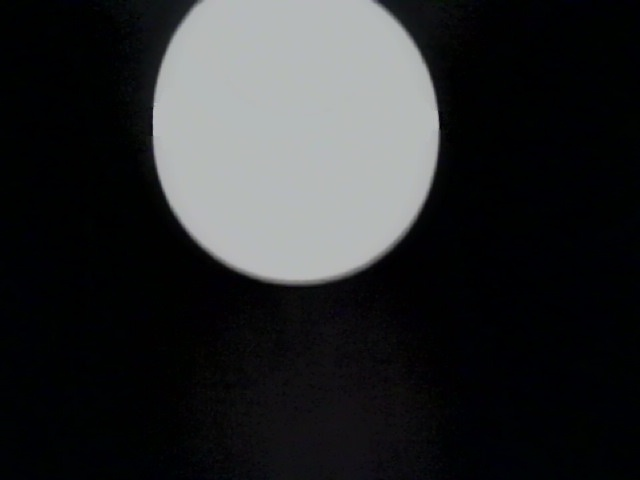KHSLJ: (11, 154, 501, 439)
